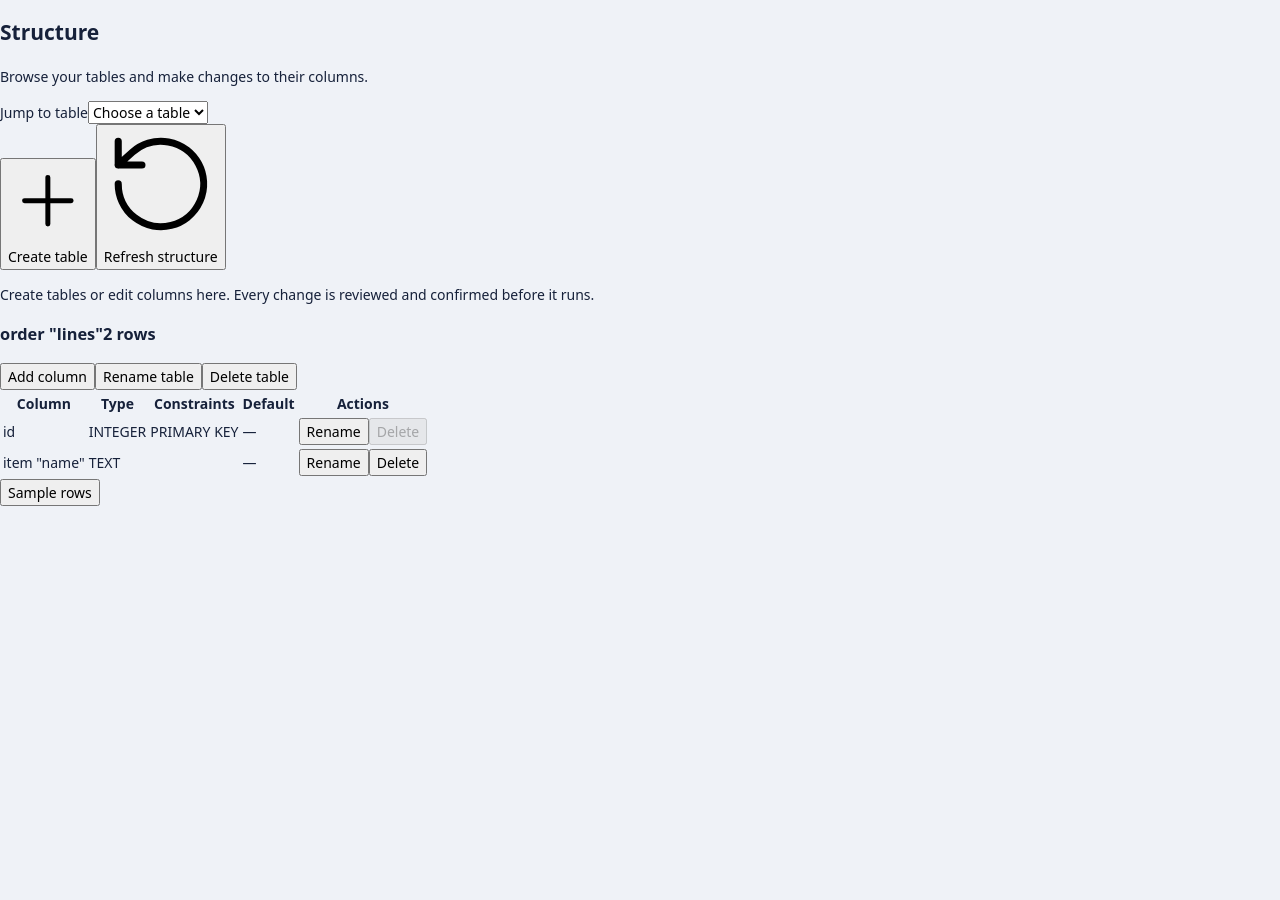
Structure confirmation flow › reviews locally and refreshes structure after decline=false
Click the button "Add column" at (48, 376), box [0,362,95,390]
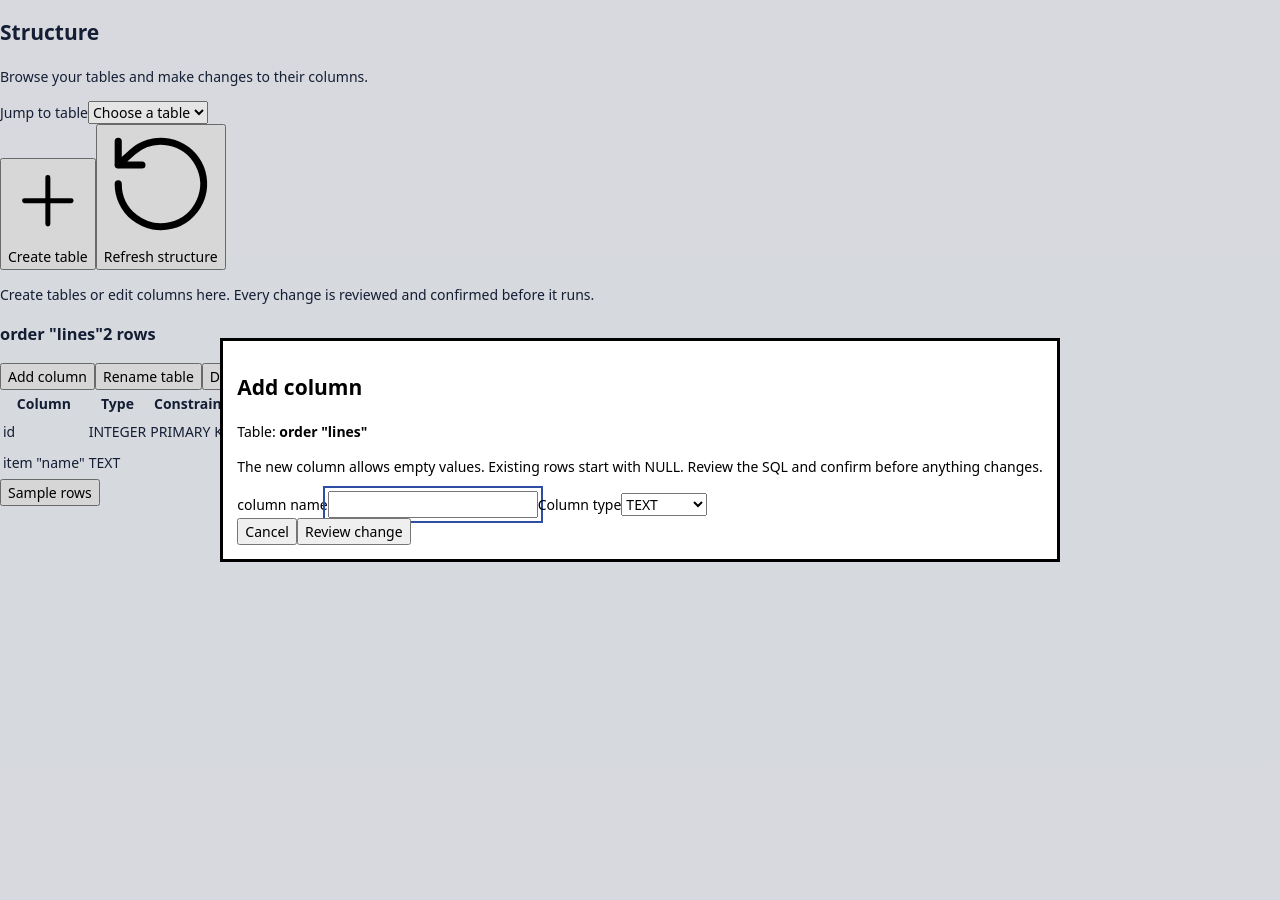
Type "phone" into the field labelled "column name" at (433, 505), box [328,491,538,518]
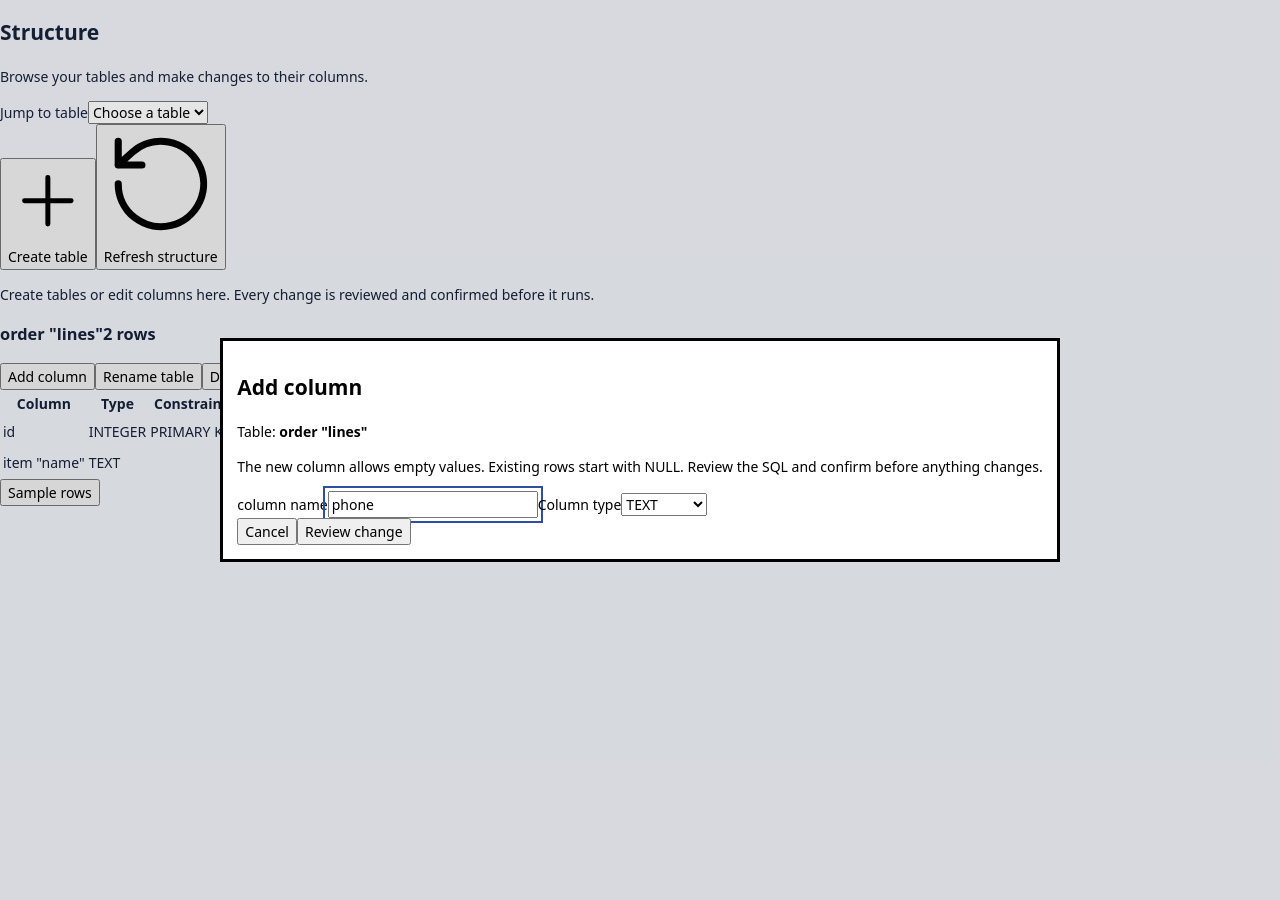
Click the button "Review change" at (354, 532), box [297,518,411,545]
(page scrolled)
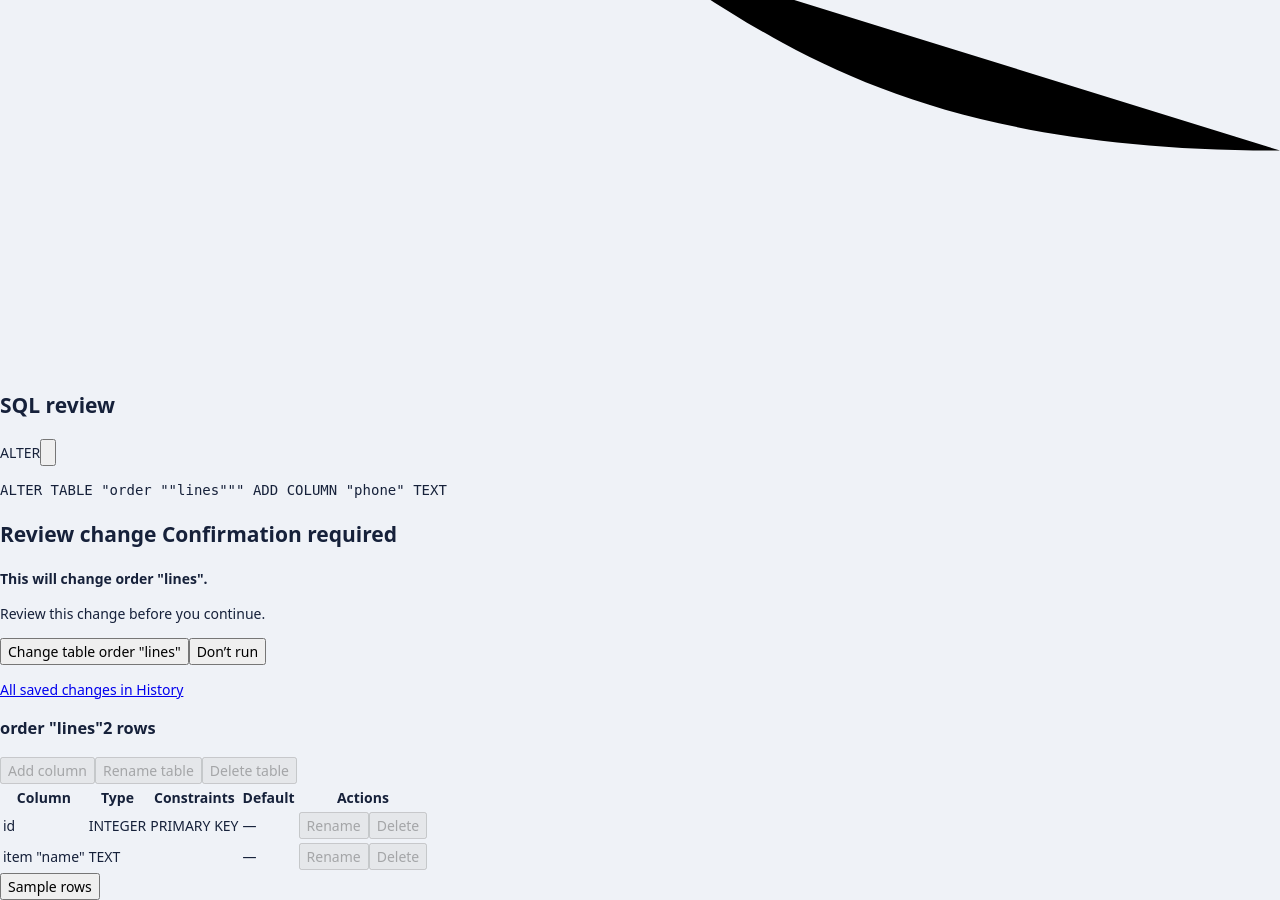
Result: the element showing "ALTER TABLE \"order \"\"lines\"\"\" ADD COLUMN \"phone\" TEXT" reads "ALTER TABLE \"order \"\"lines\"\"\" ADD COLUMN \"phone\" TEXT" at [0,482,447,498]
Click the button "Change table order \"lines\"" at (94, 651), box [0,638,189,665]
(page scrolled)
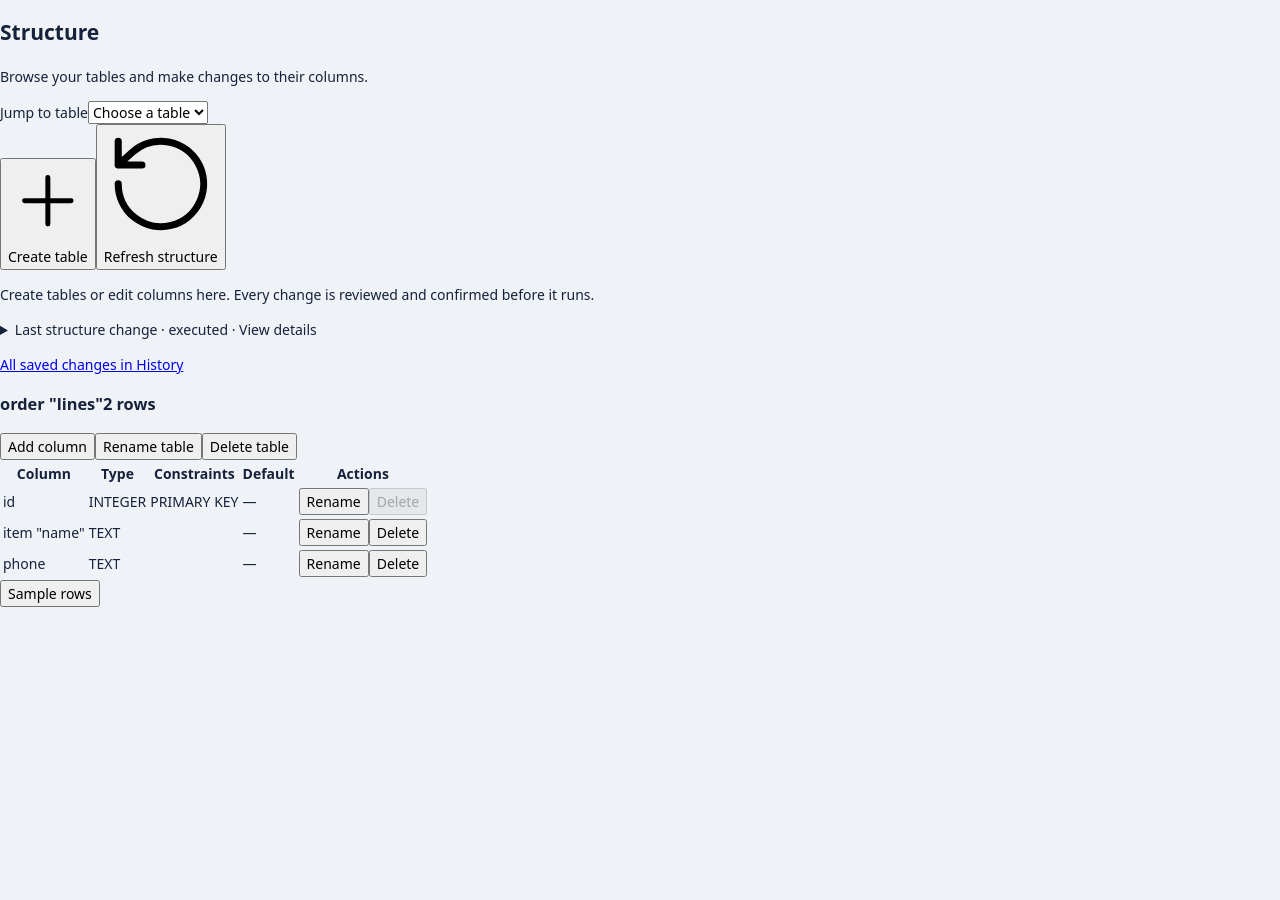
Result: the button "Create table" is enabled at [0,158,96,270]
